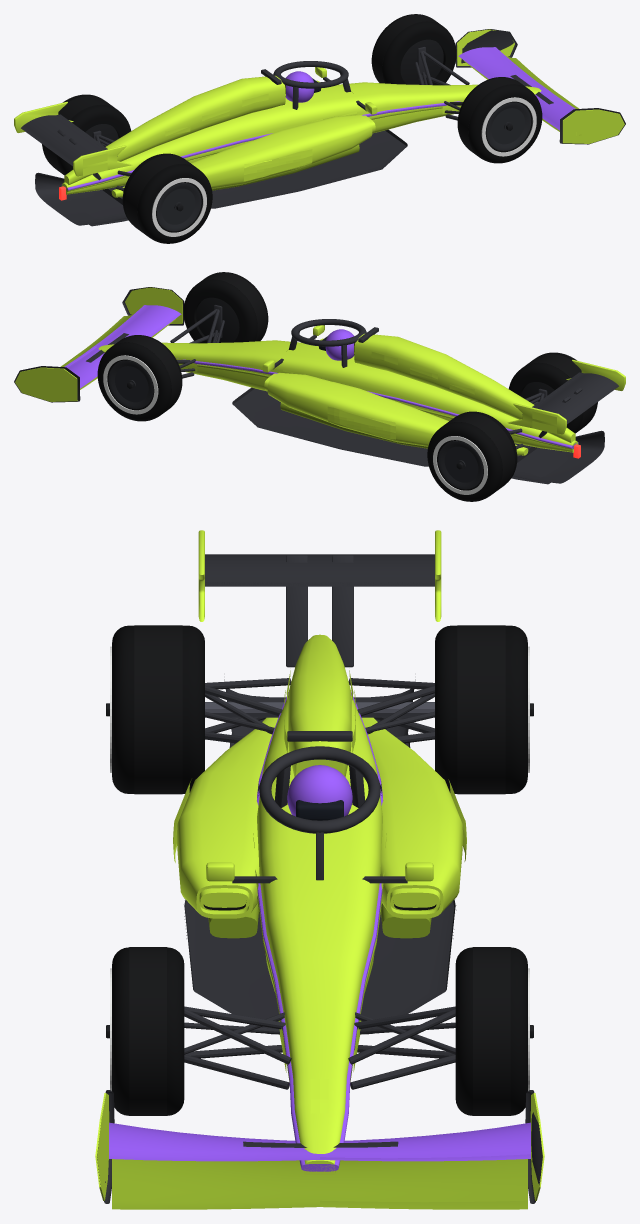
Rendered from f1-car-C.glb.
The picture shows the model from 3 angles, top to bottom: view 1: azimuth 30°, elevation 25°; view 2: azimuth 150°, elevation 25°; view 3: azimuth 270°, elevation 25°; orthographic projection. The views are drawn at different scales.
Parts seen in each view (by area): view 1: PW_Primary, PW_Carbon, PW_Tyre, PW_TyreCrown, PW_Accent, PW_Rim, PW_RimBarrel, PW_CompoundBand, PW_Secondary, PW_Decal_sidepod; view 2: PW_Primary, PW_Carbon, PW_Tyre, PW_TyreCrown, PW_Accent, PW_Rim, PW_RimBarrel, PW_CompoundBand, PW_Secondary, PW_Decal_sidepod; view 3: PW_Primary, PW_Carbon, PW_TyreCrown, PW_Tyre, PW_Secondary, PW_Accent, PW_CarbonLight, PW_CompoundBand.
Part boxes in pixels (x1=…): PW_Primary: x1=14, y1=29, x2=624, y2=197; PW_Carbon: x1=21, y1=29, x2=625, y2=226; PW_Tyre: x1=42, y1=14, x2=542, y2=243; PW_TyreCrown: x1=44, y1=14, x2=533, y2=236; PW_Accent: x1=61, y1=47, x2=575, y2=190; PW_Rim: x1=156, y1=102, x2=531, y2=231; PW_RimBarrel: x1=85, y1=39, x2=512, y2=226; PW_CompoundBand: x1=152, y1=97, x2=536, y2=236; PW_Secondary: x1=61, y1=56, x2=619, y2=191; PW_Decal_sidepod: x1=243, y1=149, x2=312, y2=181; PW_Primary: x1=15, y1=287, x2=625, y2=455; PW_Carbon: x1=14, y1=287, x2=618, y2=484; PW_Tyre: x1=97, y1=272, x2=597, y2=501; PW_TyreCrown: x1=107, y1=272, x2=595, y2=494; PW_Accent: x1=64, y1=305, x2=578, y2=448; PW_Rim: x1=108, y1=360, x2=483, y2=489; PW_RimBarrel: x1=127, y1=297, x2=554, y2=484; PW_CompoundBand: x1=103, y1=355, x2=487, y2=494; PW_Secondary: x1=20, y1=314, x2=578, y2=449; PW_Decal_sidepod: x1=327, y1=406, x2=395, y2=439; PW_Primary: x1=95, y1=530, x2=544, y2=1200; PW_Carbon: x1=97, y1=554, x2=542, y2=1203; PW_TyreCrown: x1=129, y1=625, x2=510, y2=1115; PW_Tyre: x1=112, y1=625, x2=527, y2=1115; PW_Secondary: x1=112, y1=895, x2=527, y2=1209; PW_Accent: x1=109, y1=692, x2=530, y2=1171; PW_CarbonLight: x1=205, y1=702, x2=434, y2=717; PW_CompoundBand: x1=110, y1=646, x2=529, y2=1090.
Bounding box in the file's own units: 5.57 × 0.9812 × 2.05.
